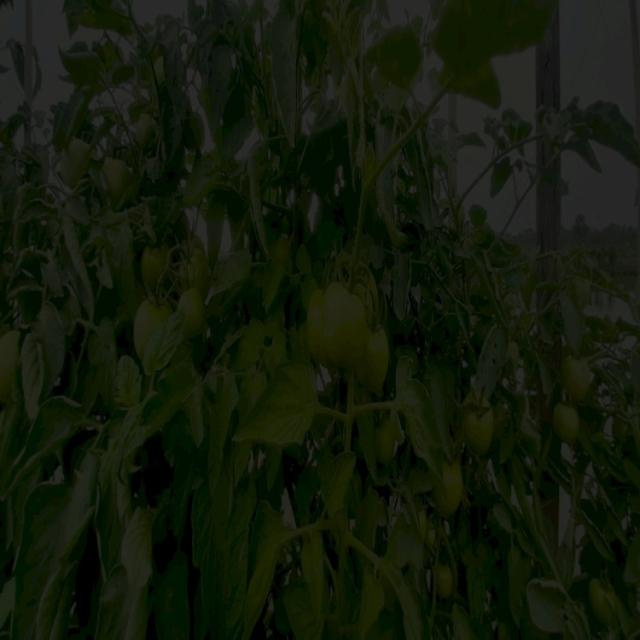tomato: (306, 284, 365, 368), (360, 321, 396, 398), (459, 388, 495, 459), (553, 395, 590, 456), (132, 297, 171, 349), (1, 327, 25, 398), (435, 462, 463, 519), (560, 351, 593, 397), (182, 248, 214, 289), (143, 248, 172, 289), (105, 159, 135, 196), (67, 140, 94, 180), (183, 289, 203, 336), (590, 579, 616, 613), (437, 563, 457, 602), (577, 276, 595, 314), (132, 115, 153, 145), (153, 57, 167, 85)
